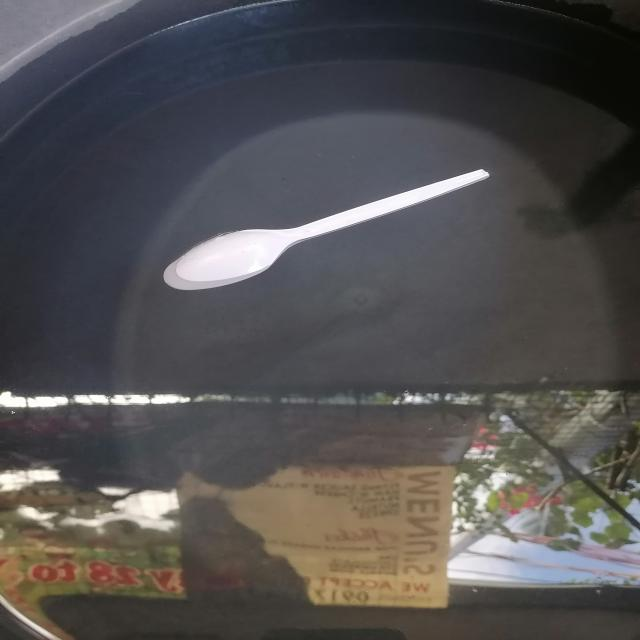Plastic Spoon: (164, 169, 489, 290)
